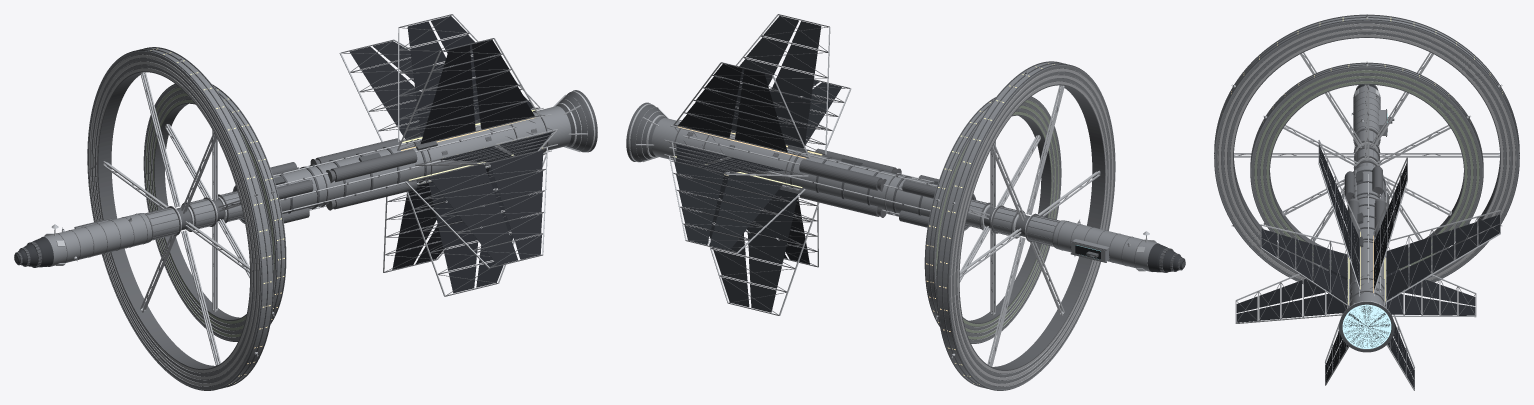
File: xuanshu_hull_lod0.glb
3 renders of one model, left to right at view 1: azimuth 30°, elevation 25°; view 2: azimuth 150°, elevation 25°; view 3: azimuth 270°, elevation 25°, orthographic. The views are drawn at different scales.
Visible parts, largest first — view 1: INDUSTRY_I3, HULL_SHELL, INDUSTRY_I2, RING_T5, RING_T4, RING_T3, RING_T2, RING_T6, RING_T1, NOZZLE, SPINE_S1, RING_E6 (+12 smaller); view 2: INDUSTRY_I3, HULL_SHELL, INDUSTRY_I2, RING_T5, RING_T4, RING_T2, RING_T3, RING_T6, RING_T1, NOZZLE, SPINE_S1, RING_E6 (+13 smaller); view 3: INDUSTRY_I3, HULL_SHELL, RING_T5, NOZZLE, RING_T4, RING_T6, RING_T3, RING_T2, RING_T1, RING_E5, RING_E3, RING_E4 (+16 smaller).
Boxes of the visible parts, x1,y1,x2,y2 form: INDUSTRY_I3: (273, 14, 557, 296); HULL_SHELL: (14, 47, 571, 390); INDUSTRY_I2: (274, 138, 417, 210); RING_T5: (89, 54, 259, 386); RING_T4: (91, 57, 257, 383); RING_T3: (93, 61, 255, 379); RING_T2: (94, 64, 254, 376); RING_T6: (88, 48, 271, 389); RING_T1: (96, 67, 252, 373); NOZZLE: (553, 90, 597, 152); SPINE_S1: (143, 204, 193, 241); RING_E6: (144, 85, 284, 340); INDUSTRY_I3: (664, 14, 936, 315); HULL_SHELL: (651, 61, 1185, 390); INDUSTRY_I2: (799, 148, 938, 217); RING_T5: (950, 68, 1113, 386); RING_T4: (952, 71, 1111, 383); RING_T2: (955, 78, 1108, 377); RING_T3: (954, 74, 1109, 380); RING_T6: (939, 63, 1114, 389); RING_T1: (957, 81, 1106, 373); NOZZLE: (626, 102, 668, 162); SPINE_S1: (1013, 213, 1061, 247); RING_E6: (926, 97, 1060, 342); INDUSTRY_I3: (1235, 140, 1500, 390); HULL_SHELL: (1214, 14, 1519, 307); RING_T5: (1218, 23, 1515, 291); NOZZLE: (1339, 301, 1394, 352); RING_T4: (1221, 26, 1512, 289); RING_T6: (1215, 14, 1518, 294); RING_T3: (1224, 29, 1509, 286); RING_T2: (1227, 31, 1506, 283); RING_T1: (1230, 34, 1503, 280); RING_E5: (1254, 70, 1479, 271); RING_E3: (1260, 75, 1473, 267); RING_E4: (1257, 73, 1476, 269).
Size of the model in its own units: 760 by 415 by 406.
